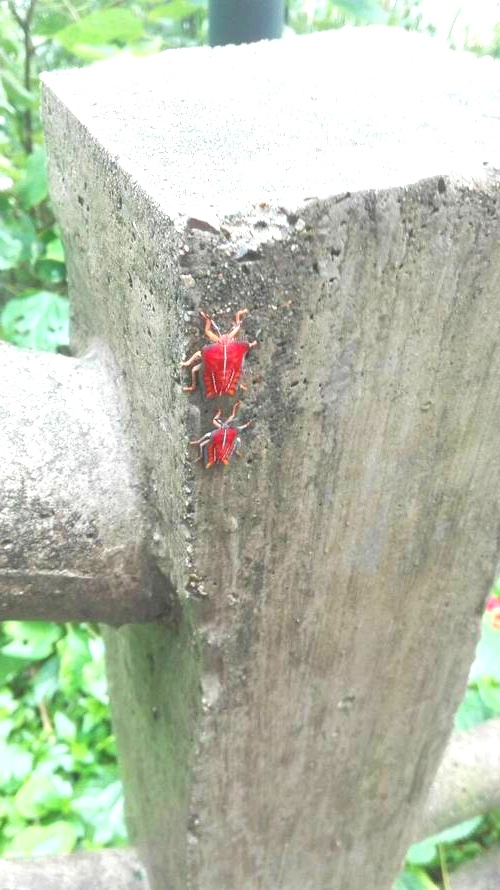Stink_Bug: (167, 306, 254, 496)
